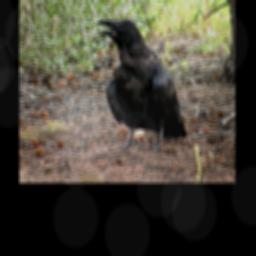Crow: (96, 17, 189, 153)
